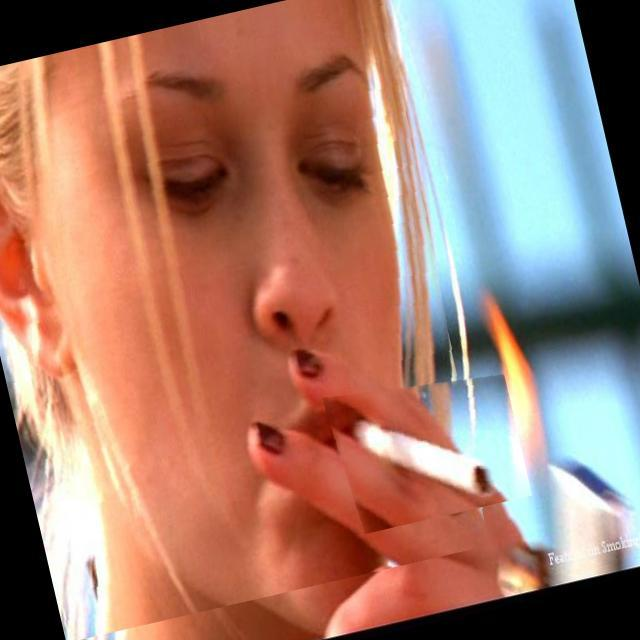cigarette: (322, 356, 532, 536)
